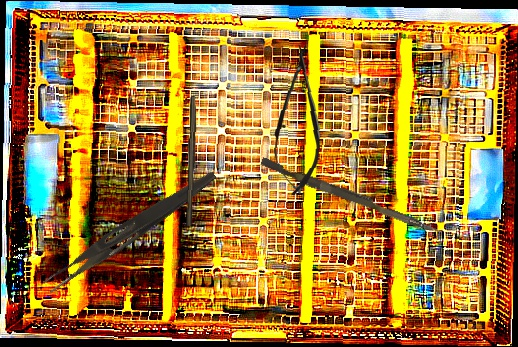Dressing Forceps: (42, 162, 219, 300)
Micro Scissor: (271, 43, 325, 197)
Pusher: (258, 157, 446, 236)
Scalpel Handle: (185, 95, 199, 227)
